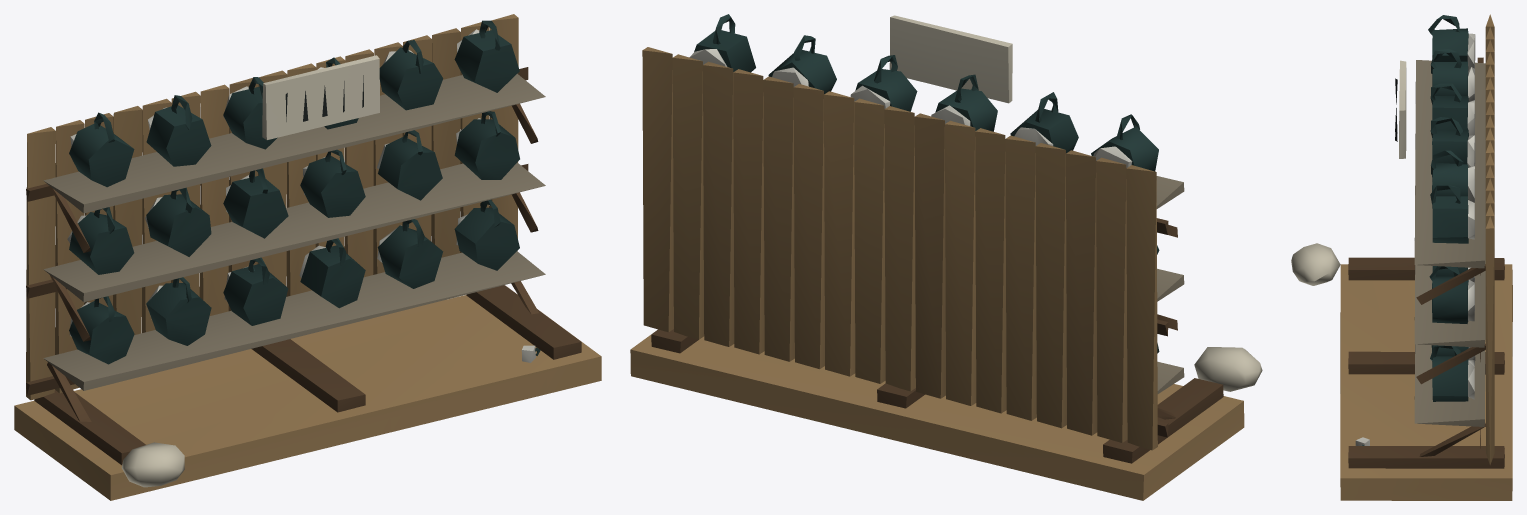
The model's file is lamp_rack_a_lod2.glb.
3 views of the same model, side by side, from view 1: azimuth 30°, elevation 25°; view 2: azimuth 150°, elevation 25°; view 3: azimuth 270°, elevation 25° (orthographic). The views are drawn at different scales.
Parts seen in each view (by area): view 1: Surface.001; view 2: Surface.001; view 3: Surface.001.
Boxes of the visible parts, x1=… form: Surface.001: x1=14, y1=14, x2=601, y2=500; Surface.001: x1=630, y1=14, x2=1262, y2=500; Surface.001: x1=1291, y1=14, x2=1512, y2=500.
Bounding box in the file's own units: 6.5 × 4.28 × 2.79.
